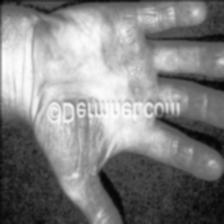Non-Cancerous Skin Condition: (107, 11, 150, 98), (64, 122, 114, 172), (167, 141, 221, 179), (140, 0, 204, 31), (78, 186, 120, 224), (185, 92, 224, 120), (192, 44, 224, 72)
